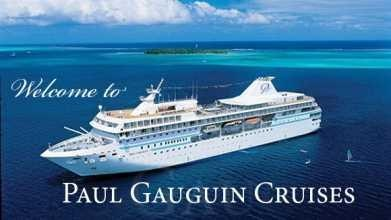youlun: (38, 73, 323, 177)
